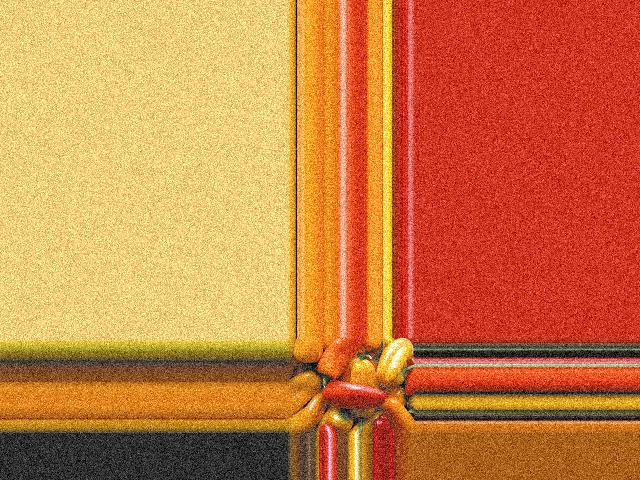bell_pepper: (373, 339, 414, 383)
